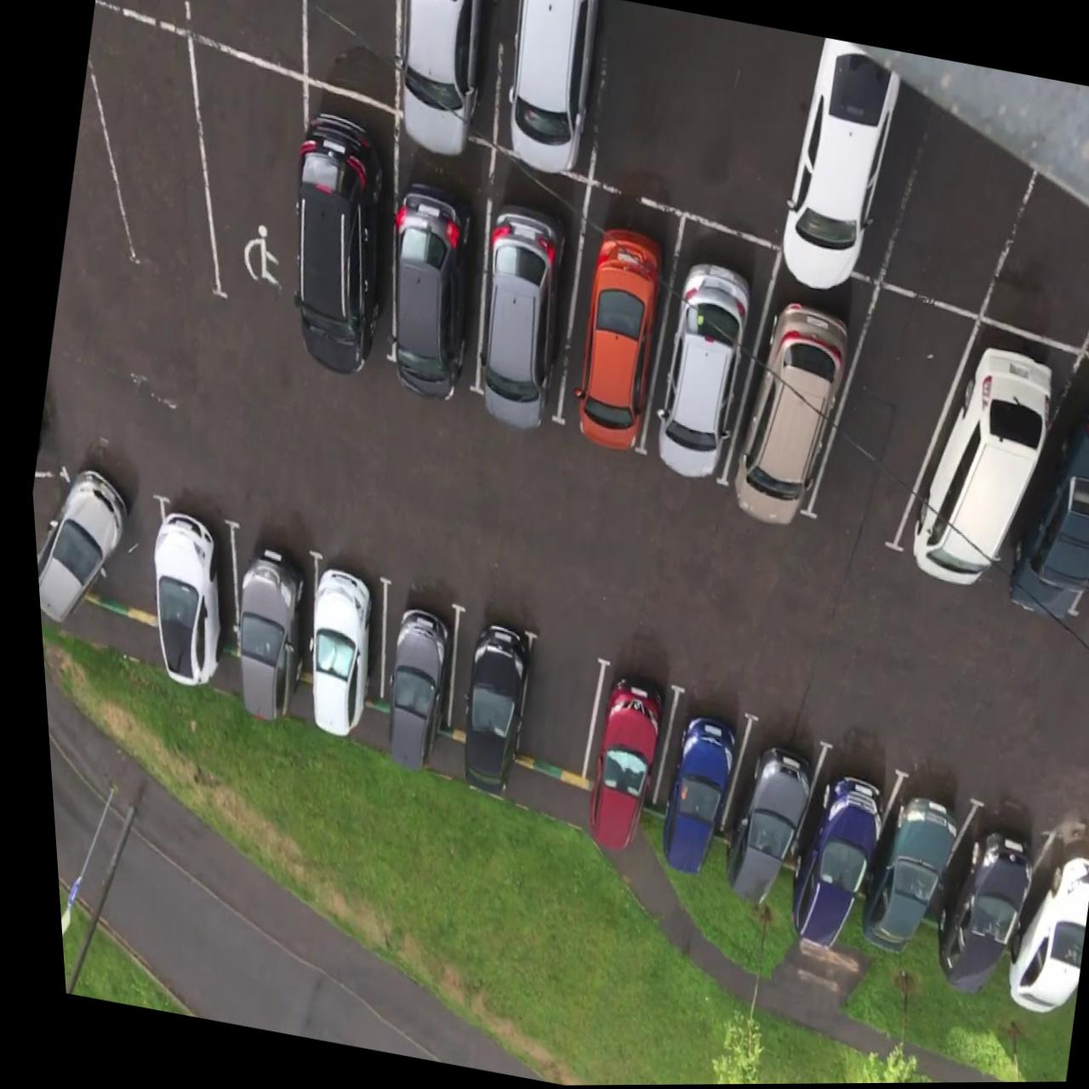cars: (256, 92, 438, 386), (896, 313, 1070, 603), (443, 152, 606, 446), (754, 32, 927, 296), (358, 121, 514, 401), (541, 192, 691, 468), (718, 254, 872, 521), (627, 214, 767, 474), (561, 632, 697, 861), (197, 500, 342, 712), (996, 342, 1089, 649), (351, 563, 485, 766), (475, 0, 629, 172), (852, 742, 973, 950), (287, 537, 412, 735), (60, 445, 189, 633), (709, 693, 824, 902), (929, 785, 1046, 984), (782, 726, 896, 929), (637, 684, 759, 871), (434, 598, 551, 792), (134, 483, 250, 671), (379, 0, 518, 149), (1000, 804, 1089, 1006)
empty: (162, 43, 337, 341), (58, 14, 241, 296), (801, 266, 979, 547), (871, 94, 1048, 331), (490, 589, 627, 811), (994, 170, 1089, 357), (295, 0, 421, 106), (178, 0, 309, 49), (96, 0, 203, 32)
